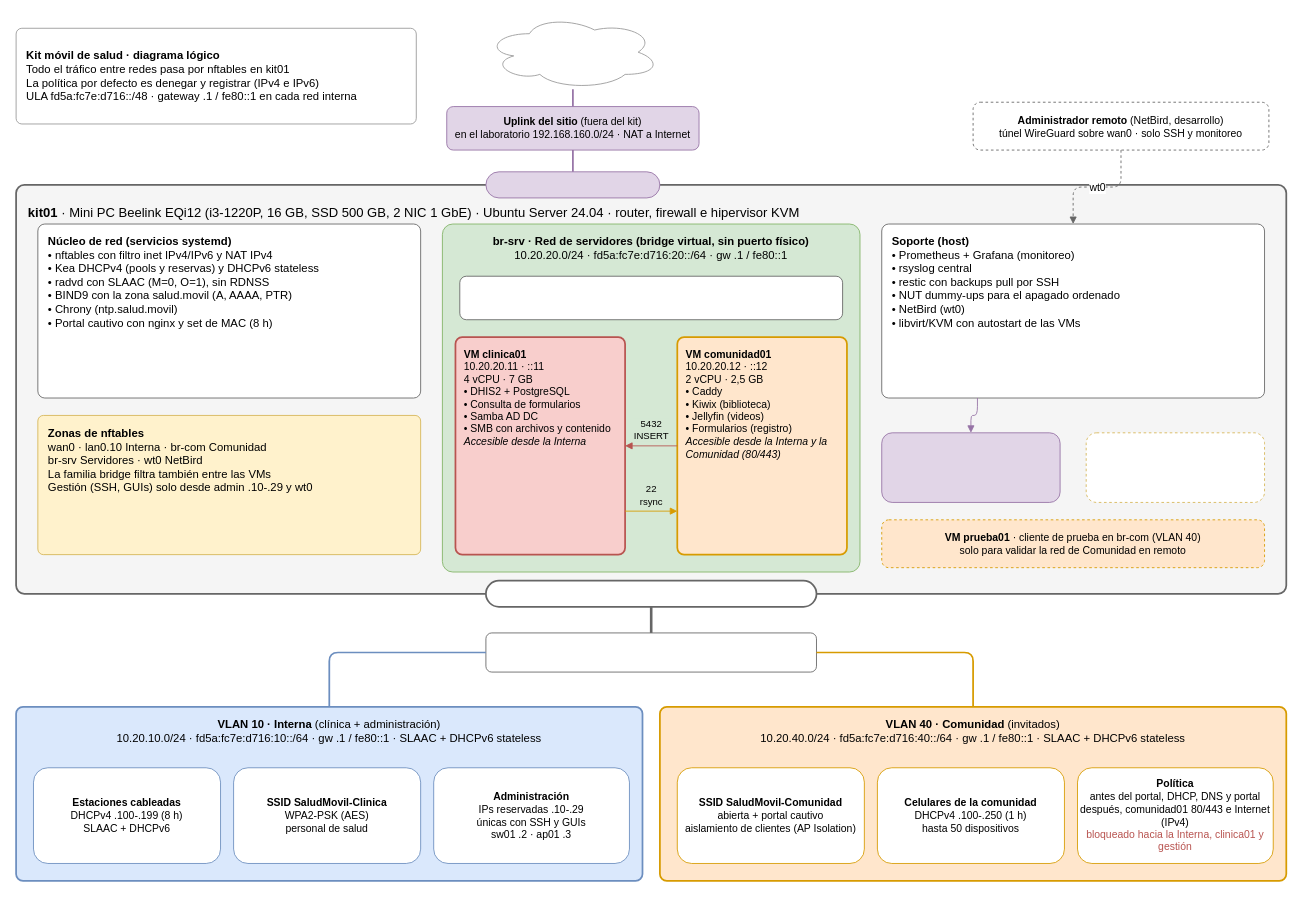
Some shapes in this 1302 by 897 pixel diagram are drawn without their labels. Here are the shapes that lost their labels. From the top down, the centre of each, then its label:
[572,51]: Internet (opcional)
[572,184]: wan0 (enp170s0) · IP del uplink
[651,297]: Servicios del host · 10.20.20.10 · ::10 ns1 · ntp · monitoreo
[970,467]: Disco USB repositorio restic cifrado 7d / 4s / 3m
[1175,467]: UPS lógica NUT dummy-ups comunidad01 → clinica01 → kit01
[651,593]: lan0 (enp171s0) · trunk 802.1Q · VLAN 10 y 40
[650,652]: sw01 MikroTik CCR2004 (solo L2) · ap01 TL-WA801ND, un SSID por VLAN
